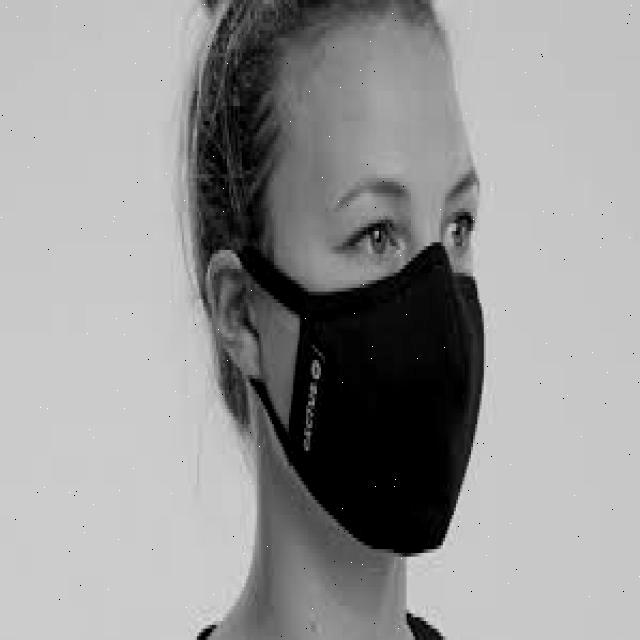fake: (248, 247, 494, 561)
real: (261, 17, 489, 567)
